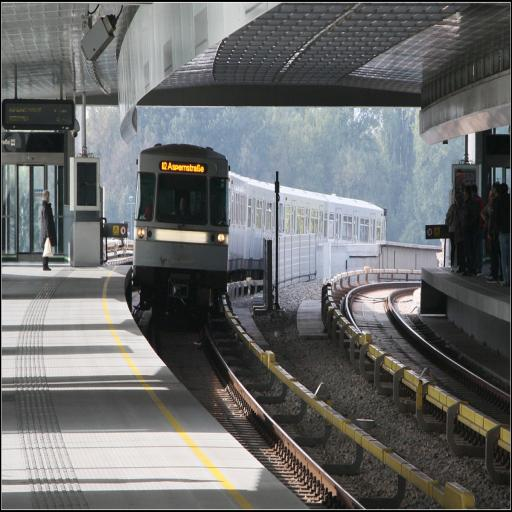Silberpfeil: (133, 139, 387, 313)
